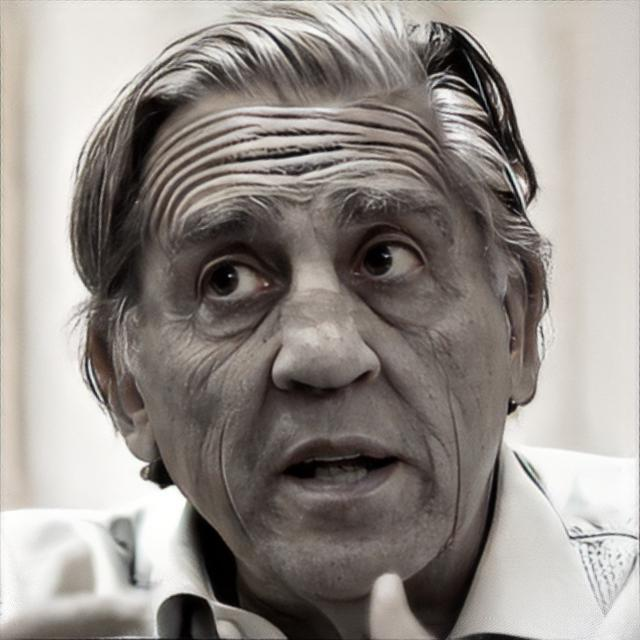surprise: (140, 76, 510, 601)
